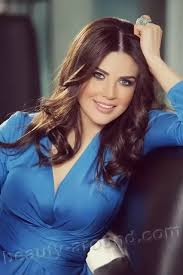middle_eastern_Female: (65, 20, 143, 127)
